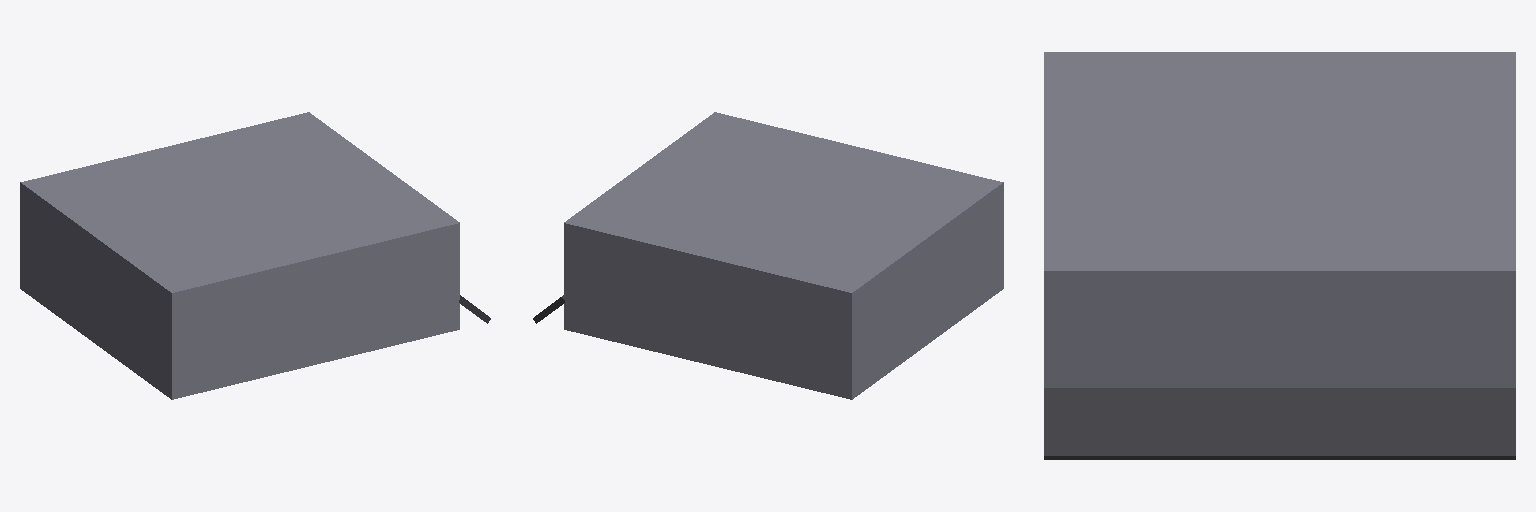
The robot description file, URDF, robot "novamax":
<?xml version="1.0"?>
<!--
  Novamax Professional Mini Sumo Kit (primitive URDF, generated from spec).

  Frame convention:
    base_link origin sits at the chassis-bottom plane, between the wheel
    contact points. +X is forward, +Y is left, +Z is up. Wheel cylinders
    are rotated 90 deg about X so their roll axis lies along the joint's
    rotation axis (+Y).

  Spec (lighter steel, low CoM, fast 800 RPM gearmotors):
    Chassis  : steel box, 99 x 90 x 35 mm, 0.38 kg
               COM 1.5 cm behind centre, 1.0 cm above floor
    Plow     : sharp steel wedge, 14 mm slope length, ~44 deg pitch, 0.02 kg
    Wheels   : silicone, r = 16.5 mm, w = 20 mm, 0.025 kg each
               track width 68 mm, axle 30 mm behind centre
    Total    : 0.45 kg (high momentum at 800 RPM)
-->
<robot name="novamax">

  <!-- ======================== CHASSIS ======================== -->
  <link name="base_link">
    <inertial>
      <!-- COM 15 mm behind centre, 10 mm above floor (heavy battery /
           gearbox stack low and to the rear). -->
      <origin xyz="-0.015 0.0 0.010" rpy="0 0 0"/>
      <mass value="0.38"/>
      <!-- Box principal moments at COM for 0.099 x 0.090 x 0.035, m=0.38:
           Ixx = (m/12)*(0.090^2 + 0.035^2) = 2.95e-4
           Iyy = (m/12)*(0.099^2 + 0.035^2) = 3.49e-4
           Izz = (m/12)*(0.099^2 + 0.090^2) = 5.67e-4 -->
      <inertia ixx="2.95e-4" ixy="0" ixz="0"
               iyy="3.49e-4" iyz="0"
               izz="5.67e-4"/>
    </inertial>

    <visual>
      <origin xyz="0 0 0.0175" rpy="0 0 0"/>
      <geometry>
        <box size="0.099 0.090 0.035"/>
      </geometry>
      <material name="steel">
        <color rgba="0.55 0.55 0.60 1.0"/>
      </material>
    </visual>

    <collision>
      <origin xyz="0 0 0.0175" rpy="0 0 0"/>
      <geometry>
        <box size="0.099 0.090 0.035"/>
      </geometry>
    </collision>
  </link>

  <!-- ============== FRONT CASTER (invisible slider) ========== -->
  <link name="front_caster">
    <inertial>
      <origin xyz="0 0 0" rpy="0 0 0"/>
      <mass value="0.001"/>
      <inertia ixx="1e-9" ixy="0" ixz="0"
               iyy="1e-9" iyz="0"
               izz="1e-9"/>
    </inertial>
    <collision>
      <origin xyz="0 0 0" rpy="0 0 0"/>
      <geometry>
        <sphere radius="0.003"/>
      </geometry>
    </collision>
    <contact>
      <lateral_friction value="0.0"/>
      <rolling_friction value="0.0"/>
      <spinning_friction value="0.0"/>
    </contact>
  </link>

  <joint name="front_caster_joint" type="fixed">
    <parent link="base_link"/>
    <child  link="front_caster"/>
    <origin xyz="0.040 0.0 0.003" rpy="0 0 0"/>
  </joint>

  <!-- ======================= PLOW WEDGE ====================== -->
  <!-- Slab geometry (in body frame):
         trailing edge (top) : x = +0.0495, z = 0.0100
         leading edge (tip)  : x = +0.0595, z = 0.0004
         slope length        : 0.01386
         pitch (about Y)     : atan2(0.0096, 0.010) = 0.764 rad (~44 deg) -->
  <link name="plow">
    <inertial>
      <origin xyz="0 0 0" rpy="0 0 0"/>
      <mass value="0.02"/>
      <!-- Slab inertia for box 0.01386 x 0.090 x 0.002, m=0.02.
           Iyy bumped from computed 3.34e-7 to 1e-6 to give margin under
           PyBullet's strict triangle inequality (Ixx + Iyy >= Izz). -->
      <inertia ixx="1.351e-5" ixy="0" ixz="0"
               iyy="1e-6"     iyz="0"
               izz="1.383e-5"/>
    </inertial>

    <visual>
      <origin xyz="0 0 0" rpy="0 0 0"/>
      <geometry>
        <box size="0.01386 0.090 0.002"/>
      </geometry>
      <material name="dark_steel">
        <color rgba="0.30 0.30 0.32 1.0"/>
      </material>
    </visual>

    <collision>
      <origin xyz="0 0 0" rpy="0 0 0"/>
      <geometry>
        <box size="0.01386 0.090 0.002"/>
      </geometry>
    </collision>

    <contact>
      <!-- Slick face so it slides under the opponent rather than grabbing. -->
      <lateral_friction value="0.3"/>
    </contact>
  </link>

  <joint name="plow_joint" type="fixed">
    <parent link="base_link"/>
    <child  link="plow"/>
    <!-- Slab centred at the midpoint of trailing & leading edges, rotated
         so its long axis runs down-slope. -->
    <origin xyz="0.0545 0.0 0.0052" rpy="0 0.764 0"/>
  </joint>

  <!-- ======================= LEFT WHEEL ====================== -->
  <link name="left_wheel">
    <inertial>
      <origin xyz="0 0 0" rpy="0 0 0"/>
      <mass value="0.025"/>
      <!-- Cylinder, axis along link +Y after the 90 deg roll:
           Iyy (rolling axis) = 0.5*m*r^2                  = 3.40e-6
           Ixx = Izz          = (m/12)*(3*r^2 + h^2)       = 2.535e-6 -->
      <inertia ixx="2.535e-6" ixy="0" ixz="0"
               iyy="3.40e-6"  iyz="0"
               izz="2.535e-6"/>
    </inertial>

    <visual>
      <origin xyz="0 0 0" rpy="1.5708 0 0"/>
      <geometry>
        <cylinder radius="0.0165" length="0.020"/>
      </geometry>
      <material name="silicone">
        <color rgba="0.10 0.10 0.10 1.0"/>
      </material>
    </visual>

    <collision>
      <origin xyz="0 0 0" rpy="1.5708 0 0"/>
      <geometry>
        <cylinder radius="0.0165" length="0.020"/>
      </geometry>
    </collision>

    <contact>
      <lateral_friction value="1.4"/>
    </contact>
  </link>

  <joint name="left_wheel_joint" type="continuous">
    <parent link="base_link"/>
    <child  link="left_wheel"/>
    <!-- 30 mm behind centre, +34 mm to the left, axle 16.5 mm above floor. -->
    <origin xyz="-0.030 0.034 0.0165" rpy="0 0 0"/>
    <axis xyz="0 1 0"/>
  </joint>

  <!-- ====================== RIGHT WHEEL ====================== -->
  <link name="right_wheel">
    <inertial>
      <origin xyz="0 0 0" rpy="0 0 0"/>
      <mass value="0.025"/>
      <inertia ixx="2.535e-6" ixy="0" ixz="0"
               iyy="3.40e-6"  iyz="0"
               izz="2.535e-6"/>
    </inertial>

    <visual>
      <origin xyz="0 0 0" rpy="1.5708 0 0"/>
      <geometry>
        <cylinder radius="0.0165" length="0.020"/>
      </geometry>
      <material name="silicone"/>
    </visual>

    <collision>
      <origin xyz="0 0 0" rpy="1.5708 0 0"/>
      <geometry>
        <cylinder radius="0.0165" length="0.020"/>
      </geometry>
    </collision>

    <contact>
      <lateral_friction value="1.4"/>
    </contact>
  </link>

  <joint name="right_wheel_joint" type="continuous">
    <parent link="base_link"/>
    <child  link="right_wheel"/>
    <origin xyz="-0.030 -0.034 0.0165" rpy="0 0 0"/>
    <axis xyz="0 1 0"/>
  </joint>

</robot>

--- What the picture shows (computed from the rendered views, not written in the file) ---
The picture shows the robot from 3 angles, left to right: view 1: azimuth 30°, elevation 25°; view 2: azimuth 150°, elevation 25°; view 3: azimuth 270°, elevation 25°; orthographic projection.
Model novamax with 5 links and 4 joints (2 continuous, 2 fixed), rooted at base_link, posed all joints at 0.
Links seen in each view (by area): view 1: base_link; view 2: base_link; view 3: base_link, plow.
Link boxes in pixels (x1,y1,x2,y2): base_link: [20, 112, 459, 399]; base_link: [564, 112, 1003, 399]; base_link: [1044, 52, 1515, 387]; plow: [1044, 388, 1515, 459].
Size in the robot's own frame: 0.1097 by 0.09 by 0.0353 metres.
Geometry: primitives only (box / cylinder / sphere), no mesh files.
